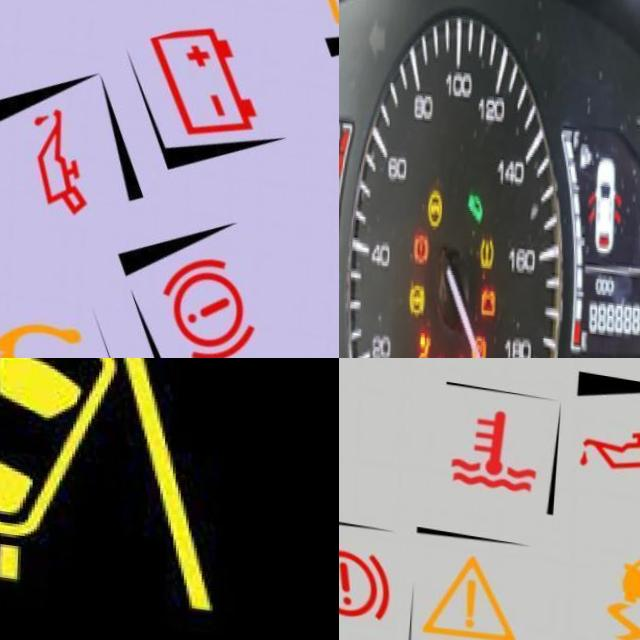Seat Belt: (456, 341, 474, 358)
